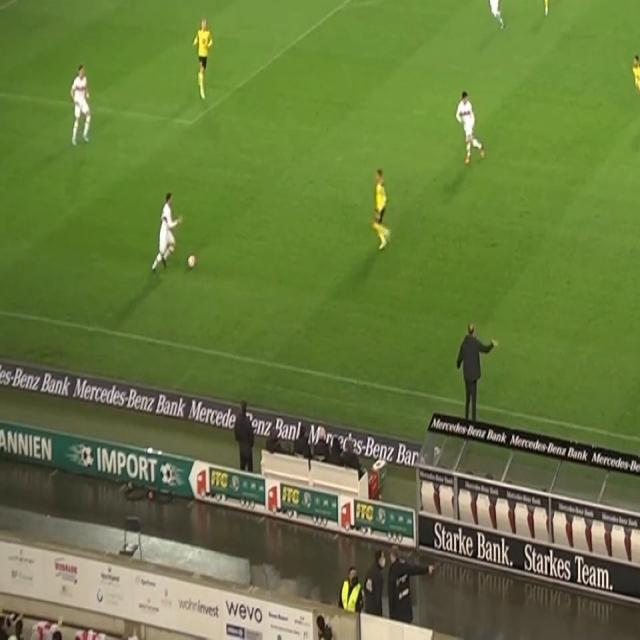ball: (188, 253, 195, 269)
